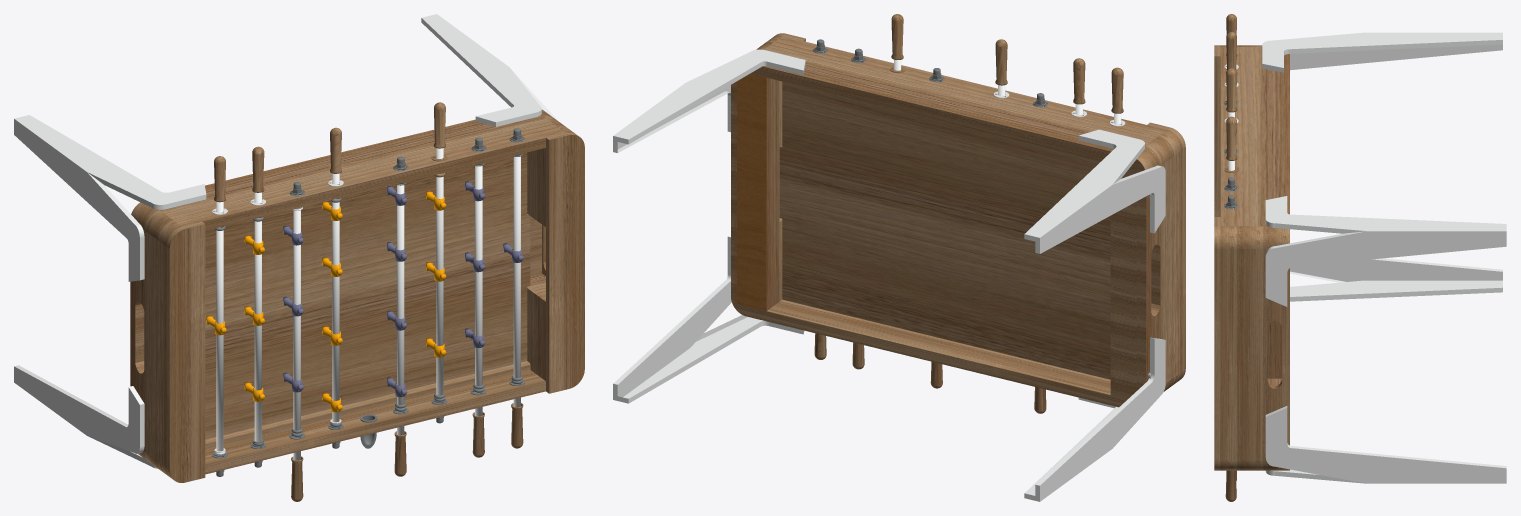
File: ambar-foosball.glb
3 renders of one model, left to right at view 1: azimuth 30°, elevation 25°; view 2: azimuth 150°, elevation 25°; view 3: azimuth 270°, elevation 25°, orthographic. The views are drawn at different scales.
Parts seen in each view (by area): view 1: ID454, ID3967, ID4511, ID4490, ID4382, ID4441, ID4323, ID3731, ID29, ID3378, ID640, ID1755 (+9 smaller); view 2: ID454, ID3967, ID4382, ID3765, ID3720, ID4441, ID4264, ID4323, ID3731, ID4264_1, ID4501, ID3743 (+5 smaller); view 3: ID3967, ID4323, ID4264, ID4382, ID4441_1, ID4441, ID4480, ID4501, ID4421_1, ID3731, ID4244_1, ID1544 (+3 smaller).
Boxes of the visible parts, box(x1,y1,x2,y2) form: ID454: box(205, 152, 530, 439); ID3967: box(130, 109, 574, 476); ID4511: box(169, 224, 205, 482); ID4490: box(549, 135, 584, 393); ID4382: box(14, 115, 206, 281); ID4441: box(14, 365, 157, 468); ID4323: box(421, 14, 558, 126); ID3731: box(527, 148, 545, 380); ID29: box(205, 361, 530, 449); ID3378: box(216, 201, 223, 451); ID640: box(513, 141, 520, 406); ID1755: box(254, 192, 261, 441); ID454: box(779, 81, 1110, 379); ID3967: box(731, 35, 1182, 407); ID4382: box(1024, 129, 1165, 253); ID3765: box(734, 73, 763, 310); ID3720: box(1113, 166, 1143, 399); ID4441: box(1025, 337, 1165, 501); ID4264: box(617, 236, 804, 403); ID4323: box(613, 49, 805, 152); ID3731: box(766, 78, 782, 310); ID4264_1: box(623, 315, 763, 398); ID4501: box(1147, 122, 1185, 380); ID3743: box(763, 77, 766, 310); ID3967: box(1220, 45, 1289, 470); ID4323: box(1265, 196, 1506, 306); ID4264: box(1265, 406, 1506, 483); ID4382: box(1262, 32, 1502, 72); ID4441_1: box(1290, 259, 1502, 282); ID4441: box(1290, 258, 1502, 296); ID4480: box(1214, 217, 1220, 470); ID4501: box(1214, 45, 1220, 216); ID4421_1: box(1290, 287, 1502, 301); ID3731: box(1267, 321, 1281, 378); ID4244_1: box(1291, 446, 1506, 468); ID1544: box(1226, 68, 1237, 112).
Bounding box in the file's own units: 53.98 × 44.13 × 33.6.
Materials: 8 (5 with a texture image).
